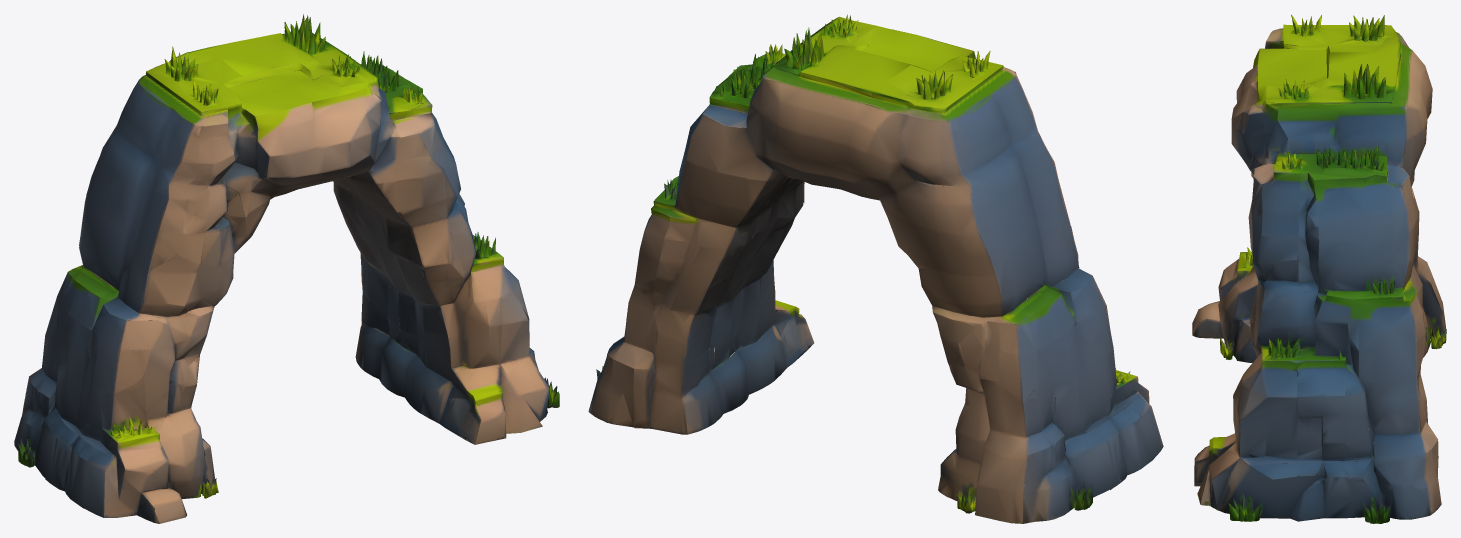
File: dome_stone_with _grass.glb
3 views of the same model, side by side, from view 1: azimuth 30°, elevation 25°; view 2: azimuth 150°, elevation 25°; view 3: azimuth 270°, elevation 25° (orthographic). The views are drawn at different scales.
Parts seen in each view (by area): view 1: node_0; view 2: node_0; view 3: node_0.
Boxes of the visible parts, x1,y1,x2,y2 form: node_0: [14, 14, 559, 523]; node_0: [588, 14, 1163, 523]; node_0: [1192, 14, 1446, 523].
Size of the model in its own units: 0.9272 by 0.7291 by 0.4525.
1 material, 1 textured.
